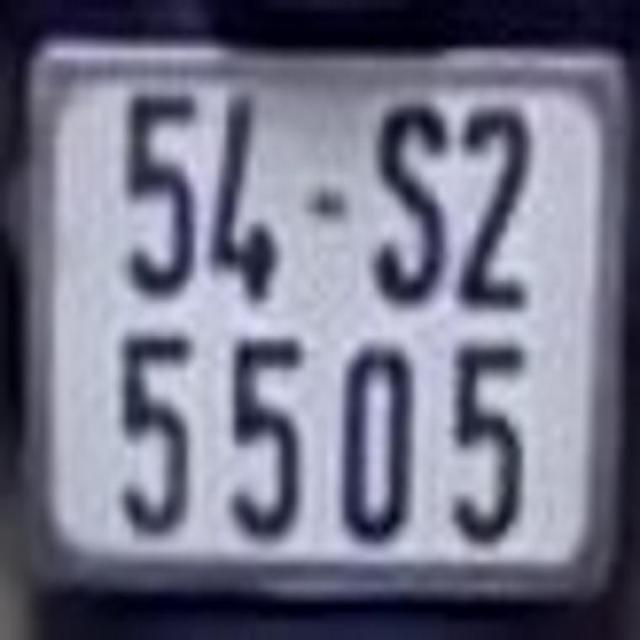0: (337, 342, 418, 534)
2: (460, 100, 535, 310)
4: (209, 88, 282, 299)
5: (446, 338, 526, 544), (224, 331, 302, 536), (119, 330, 193, 532), (125, 89, 197, 290)
S: (364, 98, 448, 300)
